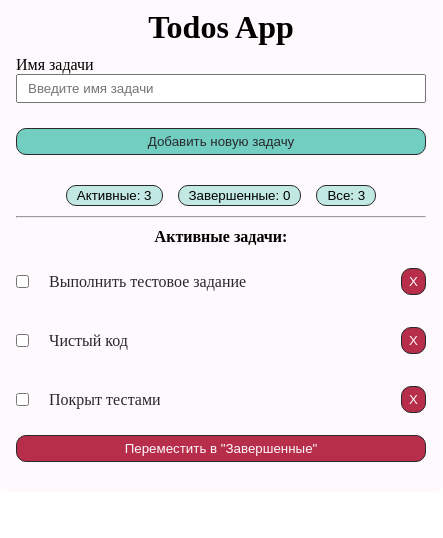
TodosContent component › checking tasks after add new task
Type "Написать тесты" into the field with placeholder "Введите имя задачи" at (221,88), box [16,74,426,103]
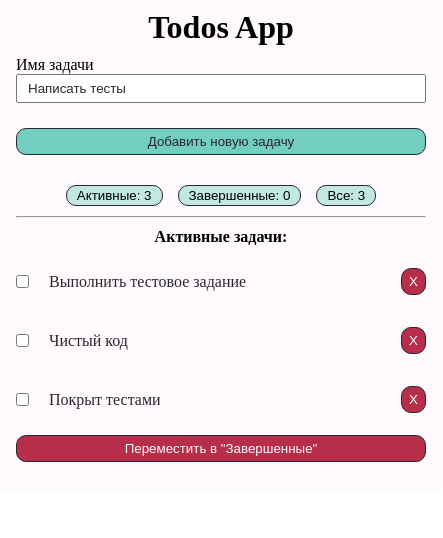
Click the button "Добавить новую задачу" at (221,142), box [16,128,426,155]
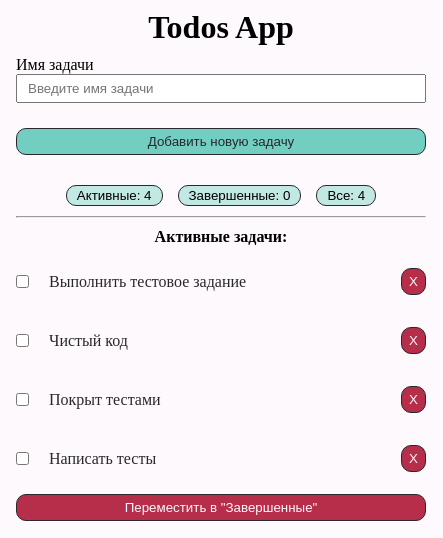
expect the field with placeholder "Введите имя задачи" is empty: met, box [16,74,426,103]
expect the number of checkboxes is 4: met, box [16,275,29,288]; [16,334,29,347]; [16,393,29,406]; [16,452,29,465]
